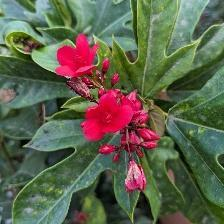jatropha: (83, 93, 137, 143), (55, 34, 101, 81)
